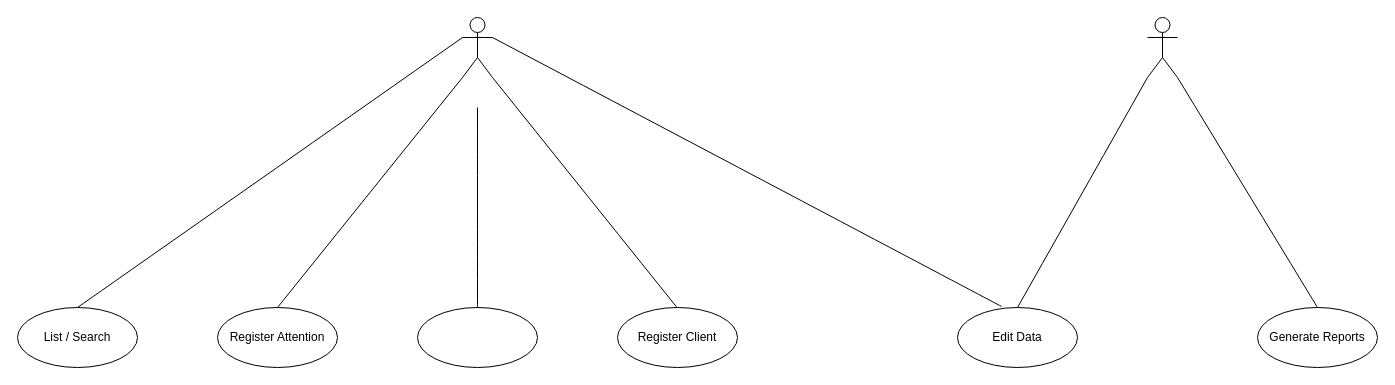
Some shapes in this 1395 by 385 pixel diagram are drawn without their labels. Here are the shapes that lost their labels. From the top down, the centre of each, then its label:
the point at 477,47: User
the point at 1162,47: Admin
the point at 477,337: Register Pet
